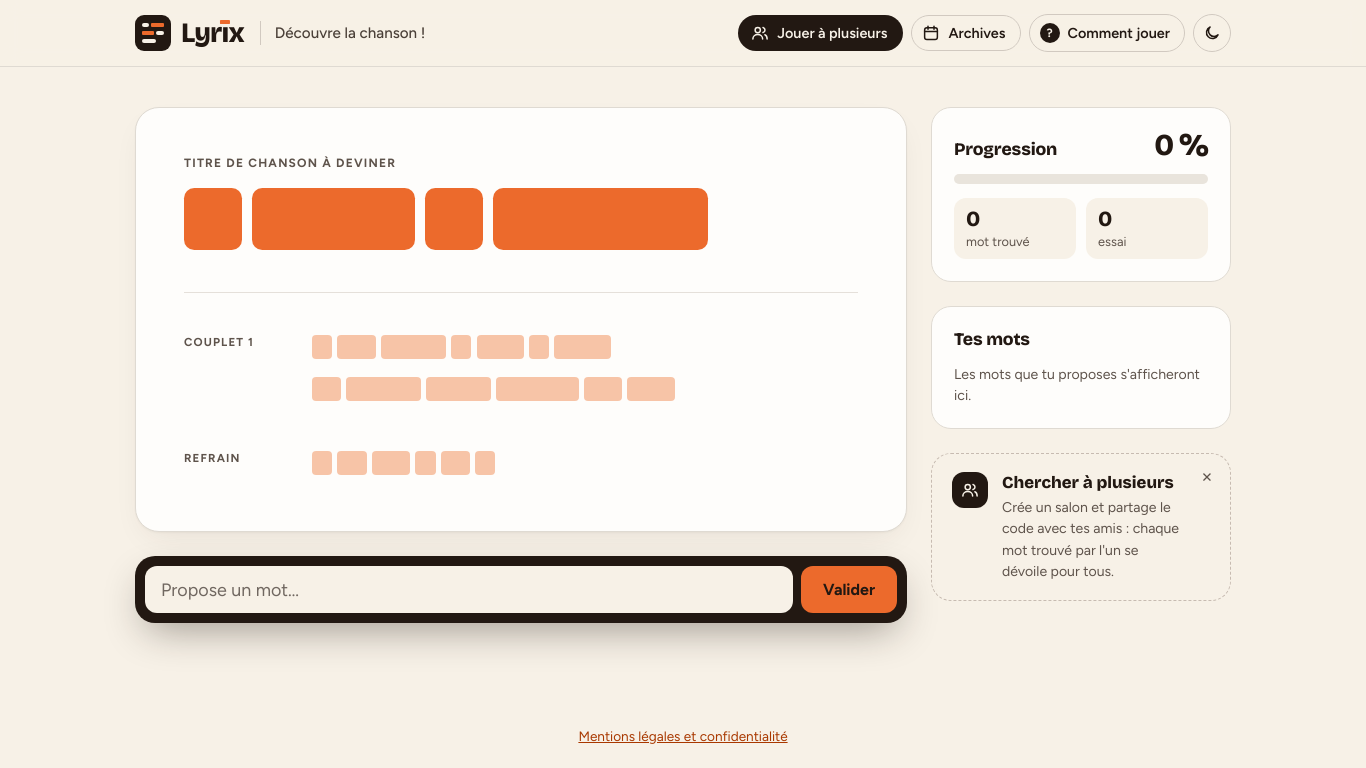
Test: a round in progress › is saved before the tab goes away, even if the deferred write has not run
Type "vent" into the field with placeholder "Propose un mot…" at {"x": 469, "y": 589}, box x1=145 y1=566 x2=793 y2=613
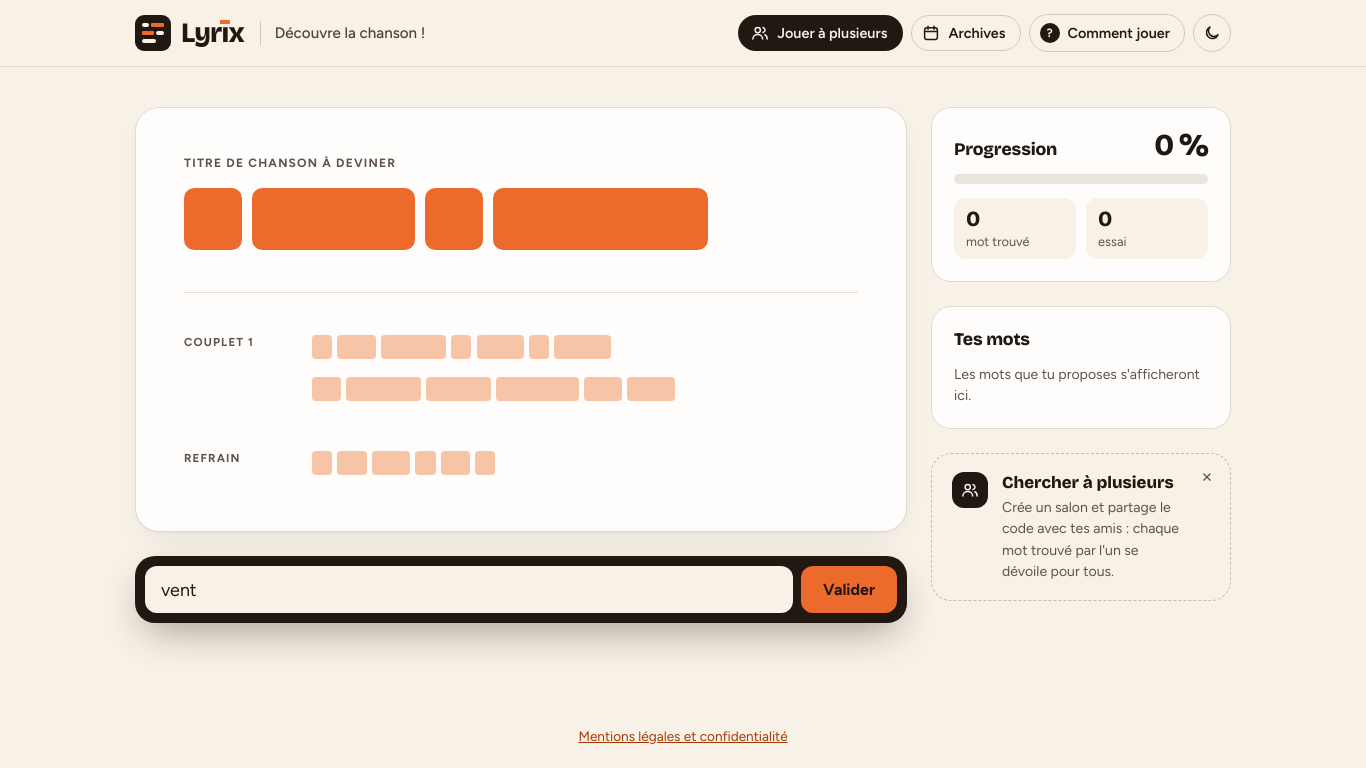
Submit the form from the field with placeholder "Propose un mot…", box x1=145 y1=566 x2=793 y2=613
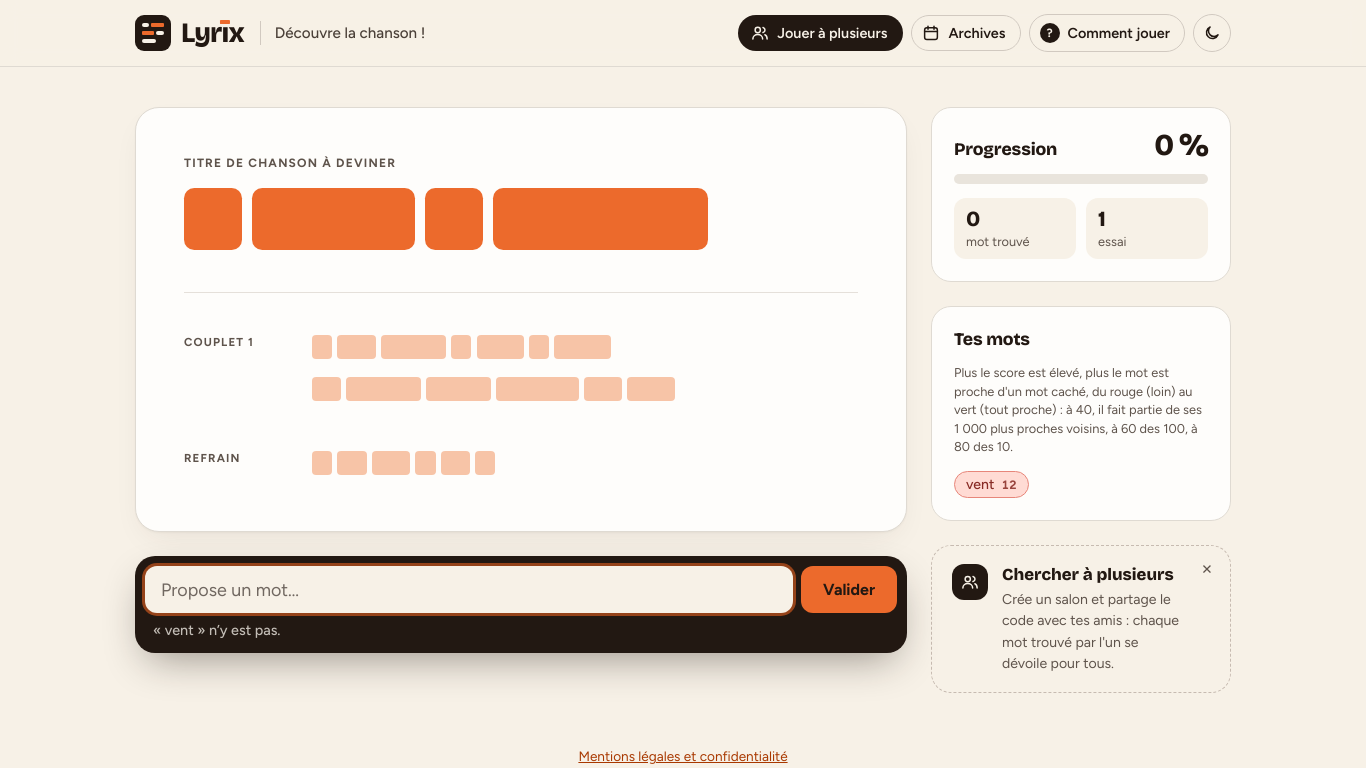
expect the text "vent" is shown: met, box x1=966 y1=476 x2=994 y2=493
